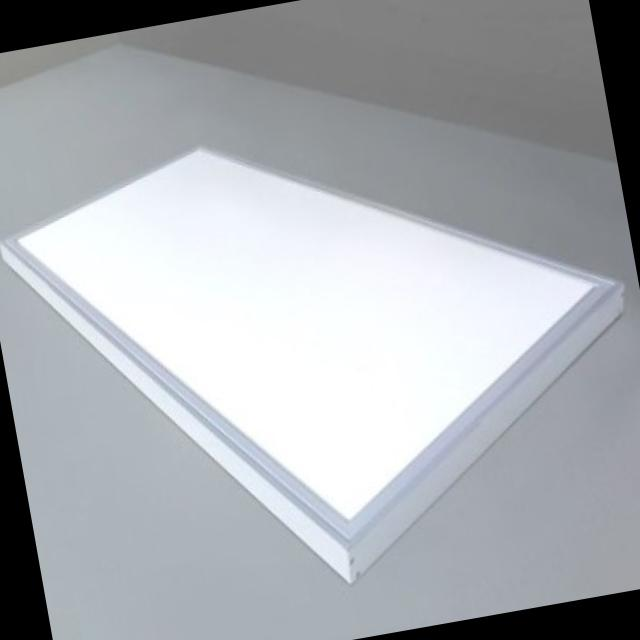light: (0, 143, 625, 583)
